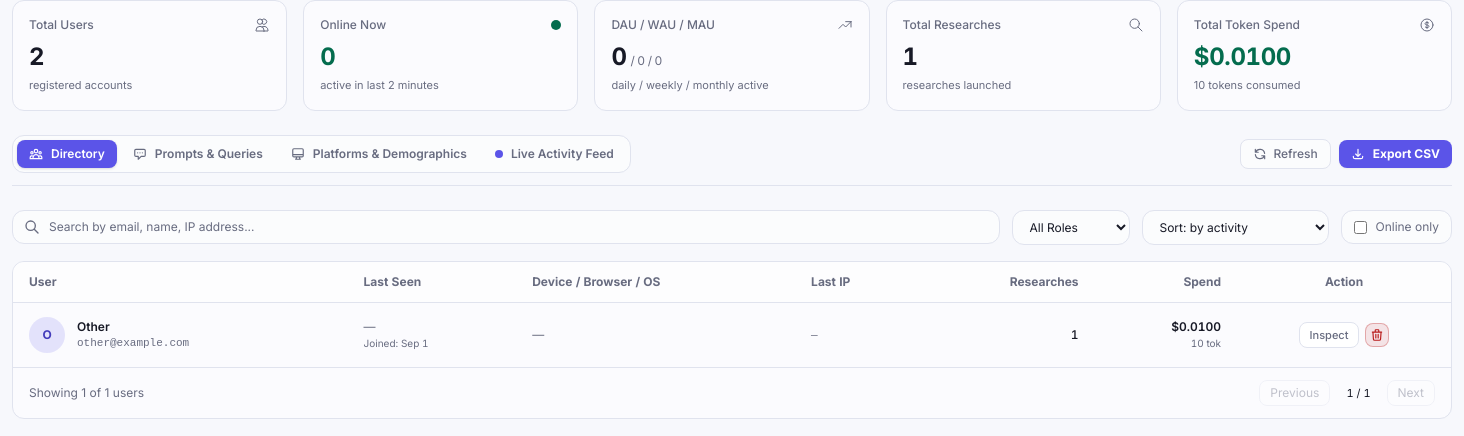
admin UsersTab › searches at once and lets only the newest query's answer fill the list
Type "an" into the field with placeholder "Search by email, name, IP address...".
click(506, 227); type("an")  # box [12,210,1000,244]
Wait 200 ms
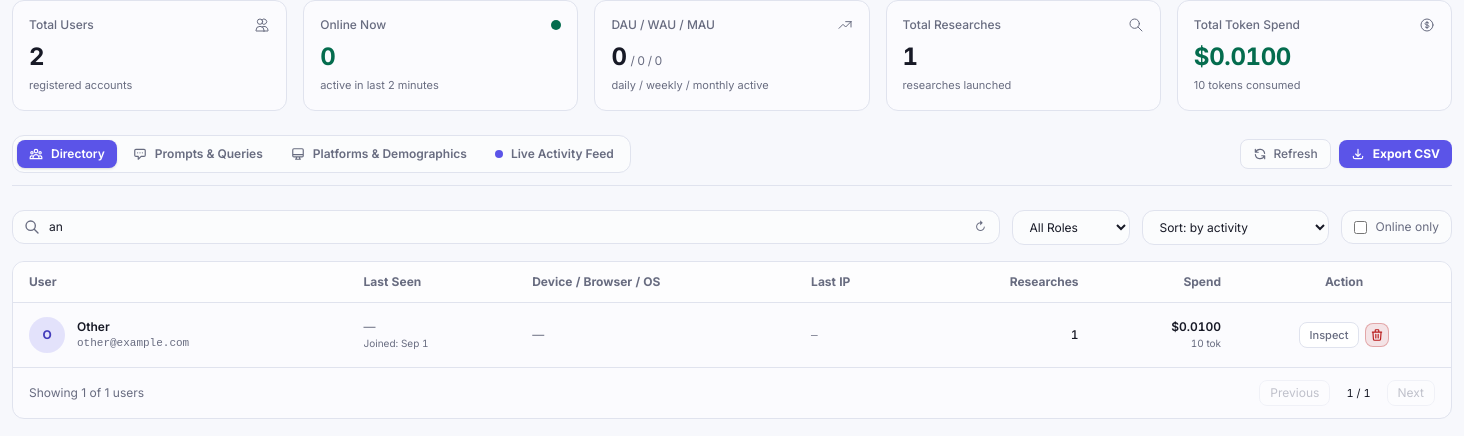
Check: the text "↻" is shown, box [975,219,986,234]
Replace the text in the field with "anna" at (506, 227), box [12,210,1000,244]
Wait 200 ms
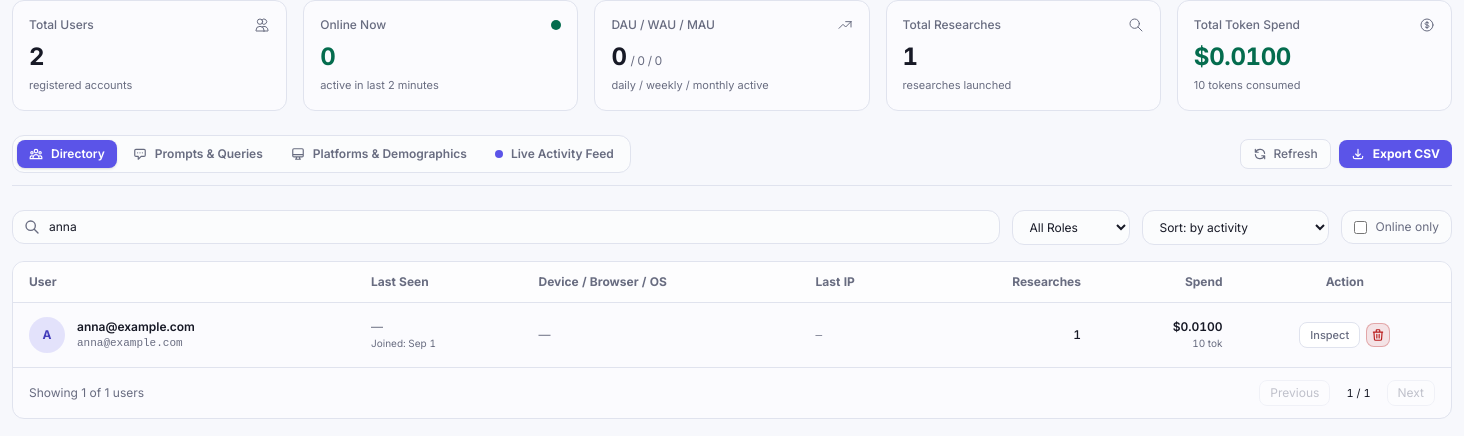
Check: the text "anna@example.com" is shown, box [77,318,195,334]
